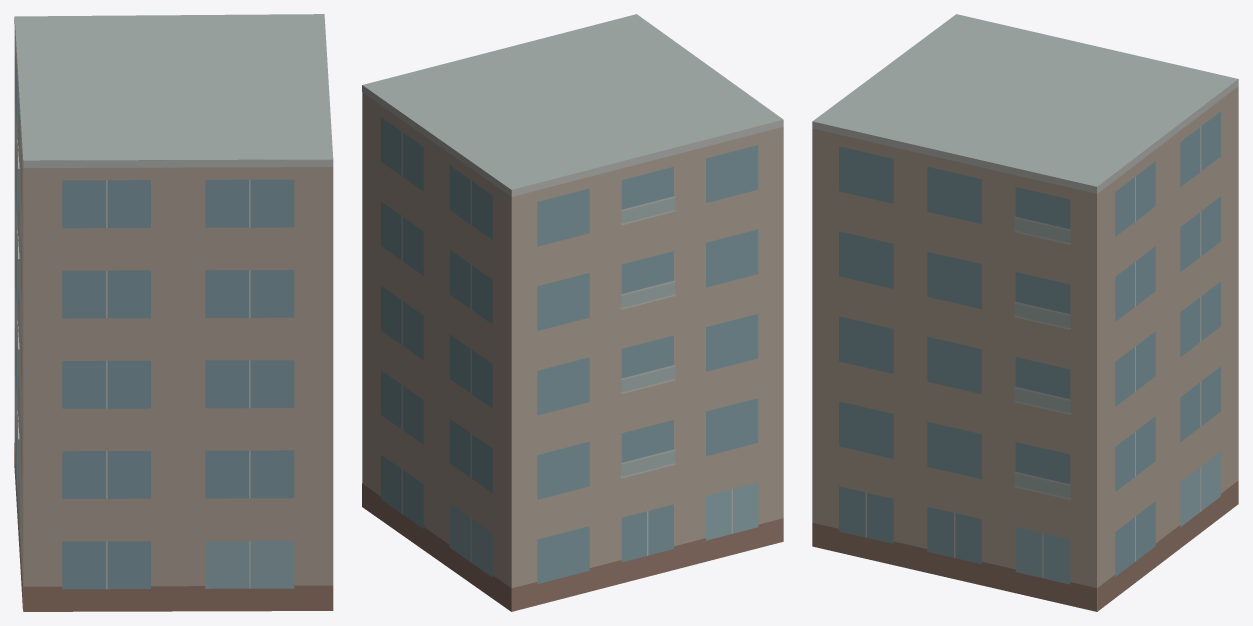
Rendered from survey-upis-32694915.glb.
3 renders of one model, left to right at view 1: azimuth 30°, elevation 25°; view 2: azimuth 150°, elevation 25°; view 3: azimuth 270°, elevation 25°, orthographic. The views are drawn at different scales.
Visible parts, largest first — view 1: survey-upis-32694915.tmp; view 2: survey-upis-32694915.tmp; view 3: survey-upis-32694915.tmp.
Boxes of the visible parts, box(x1,y1,x2,y2) form: survey-upis-32694915.tmp: box(14, 14, 333, 611); survey-upis-32694915.tmp: box(362, 14, 783, 611); survey-upis-32694915.tmp: box(812, 14, 1238, 611).
Size of the model in its own units: 12.79 by 14.65 by 13.32.
